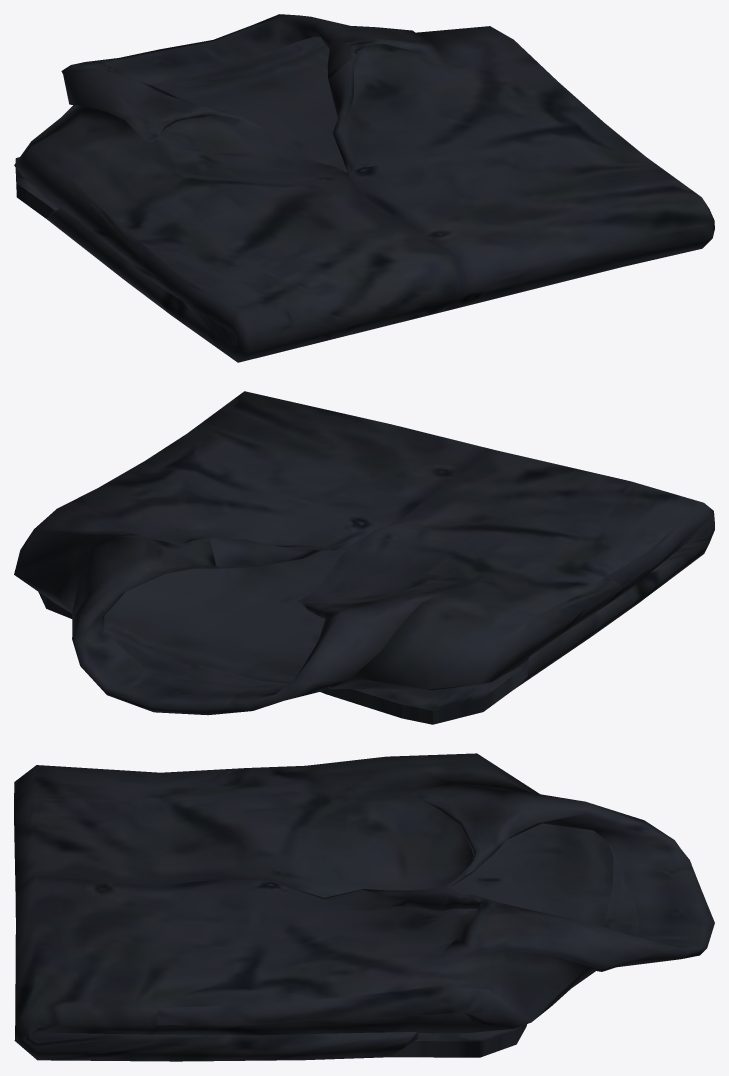
The model's file is shirtcollared_worldmodel.glb.
3 views of the same model, one above another, from view 1: azimuth 30°, elevation 25°; view 2: azimuth 150°, elevation 25°; view 3: azimuth 270°, elevation 25° (orthographic). The views are drawn at different scales.
Visible parts, largest first — view 1: shirt_folded_LOD0; view 2: shirt_folded_LOD0; view 3: shirt_folded_LOD0.
Part boxes in pixels (box(x1,y1,x2,y2)): shirt_folded_LOD0: box(14, 14, 714, 362); shirt_folded_LOD0: box(14, 391, 714, 724); shirt_folded_LOD0: box(14, 753, 714, 1061).
Size of the model in its own units: 0.3349 by 0.0608 by 0.3993.
1 material, 1 textured.
